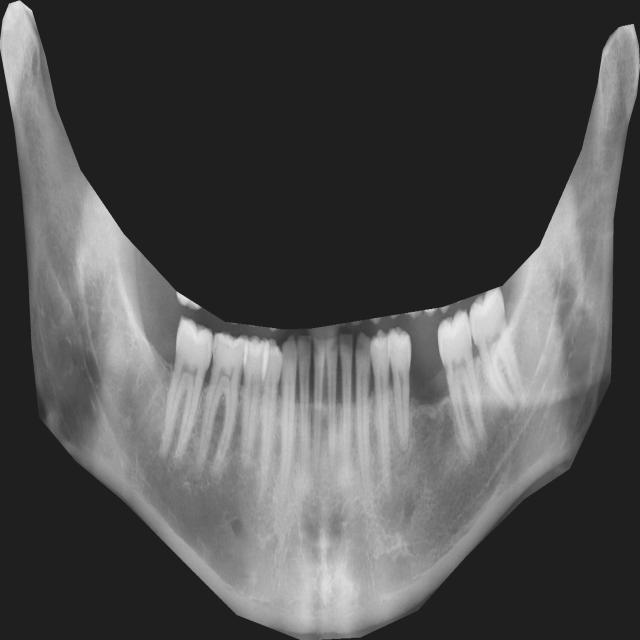mandibula: (0, 0, 640, 640)
